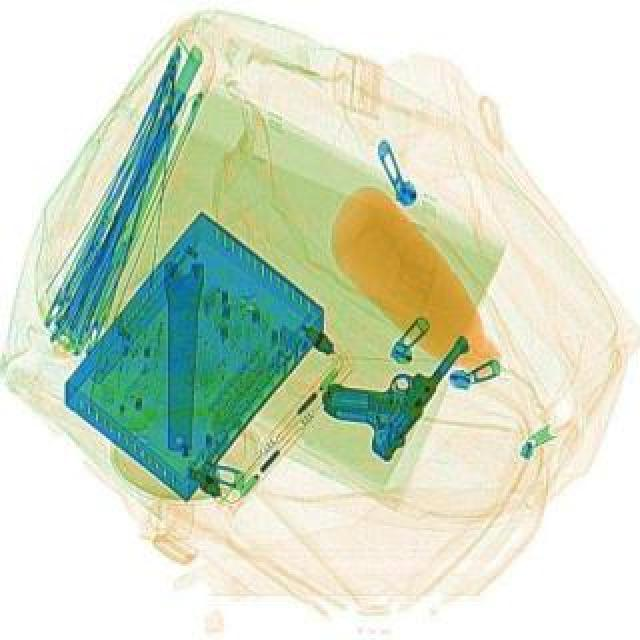gun: (304, 290, 472, 462)
